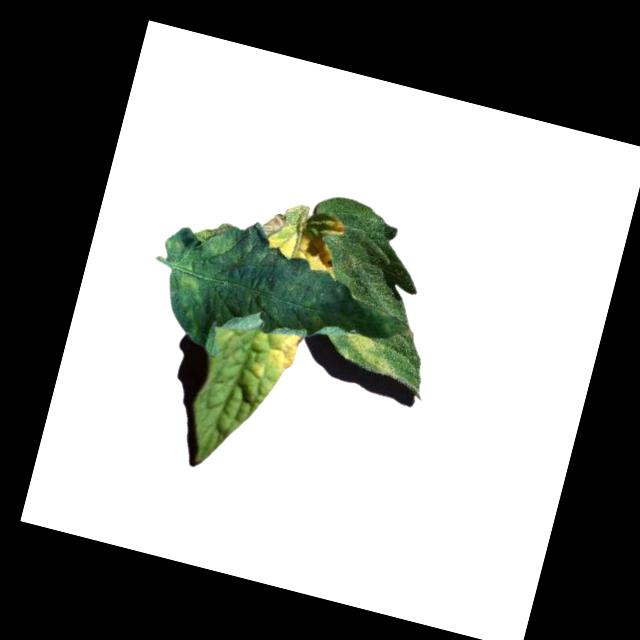Leaf_Mold: (263, 200, 348, 280), (244, 324, 303, 391), (187, 215, 254, 272), (333, 330, 399, 383)
